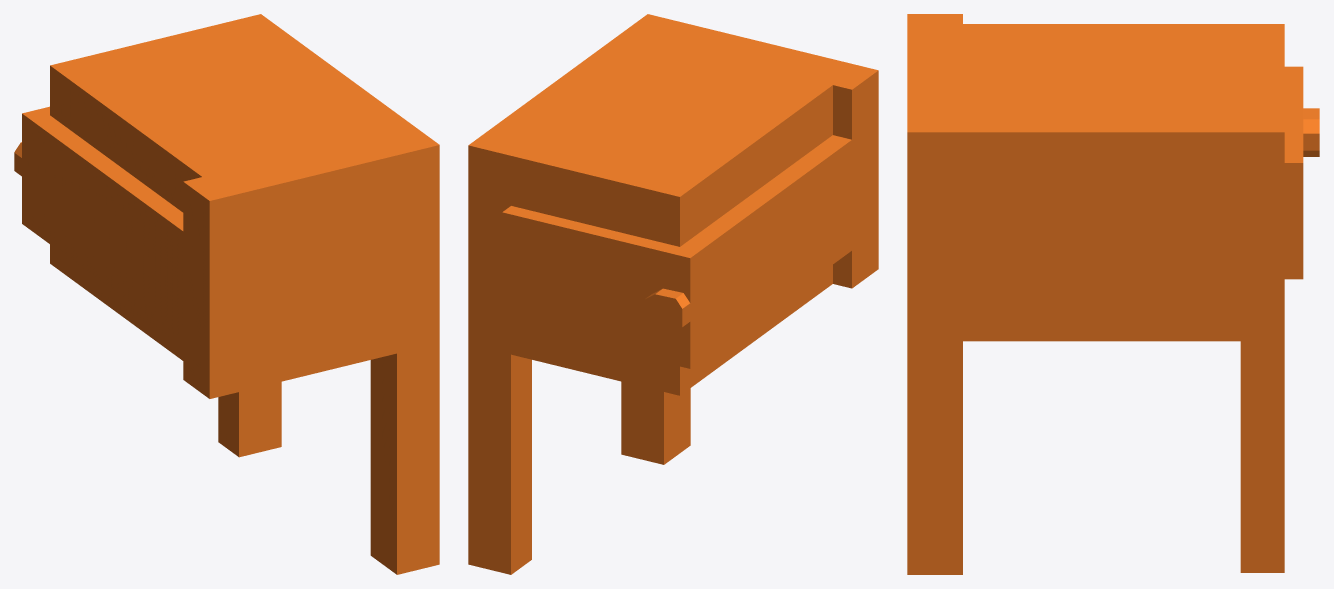
Rendered from mesita.dae.
3 renders of one model, left to right at view 1: azimuth 30°, elevation 25°; view 2: azimuth 150°, elevation 25°; view 3: azimuth 270°, elevation 25°, orthographic. The views are drawn at different scales.
Parts seen in each view (by area): view 1: Cube; view 2: Cube; view 3: Cube.
Part boxes in pixels (<box>): Cube: <box>14,14,439,574</box>; Cube: <box>468,14,878,574</box>; Cube: <box>907,14,1319,574</box>.
Bounding box in the file's own units: 12.03 × 17.71 × 20.97.
Materials: 1 (1 with a texture image).
